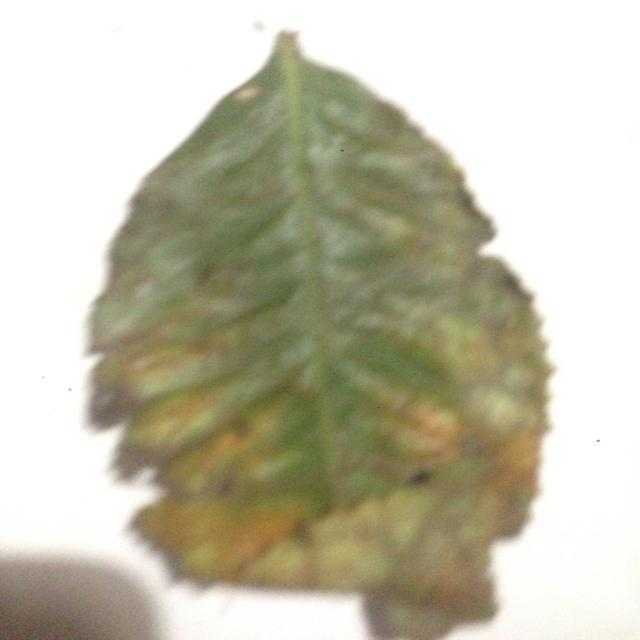Red Leaf Spot: (81, 19, 562, 638)
